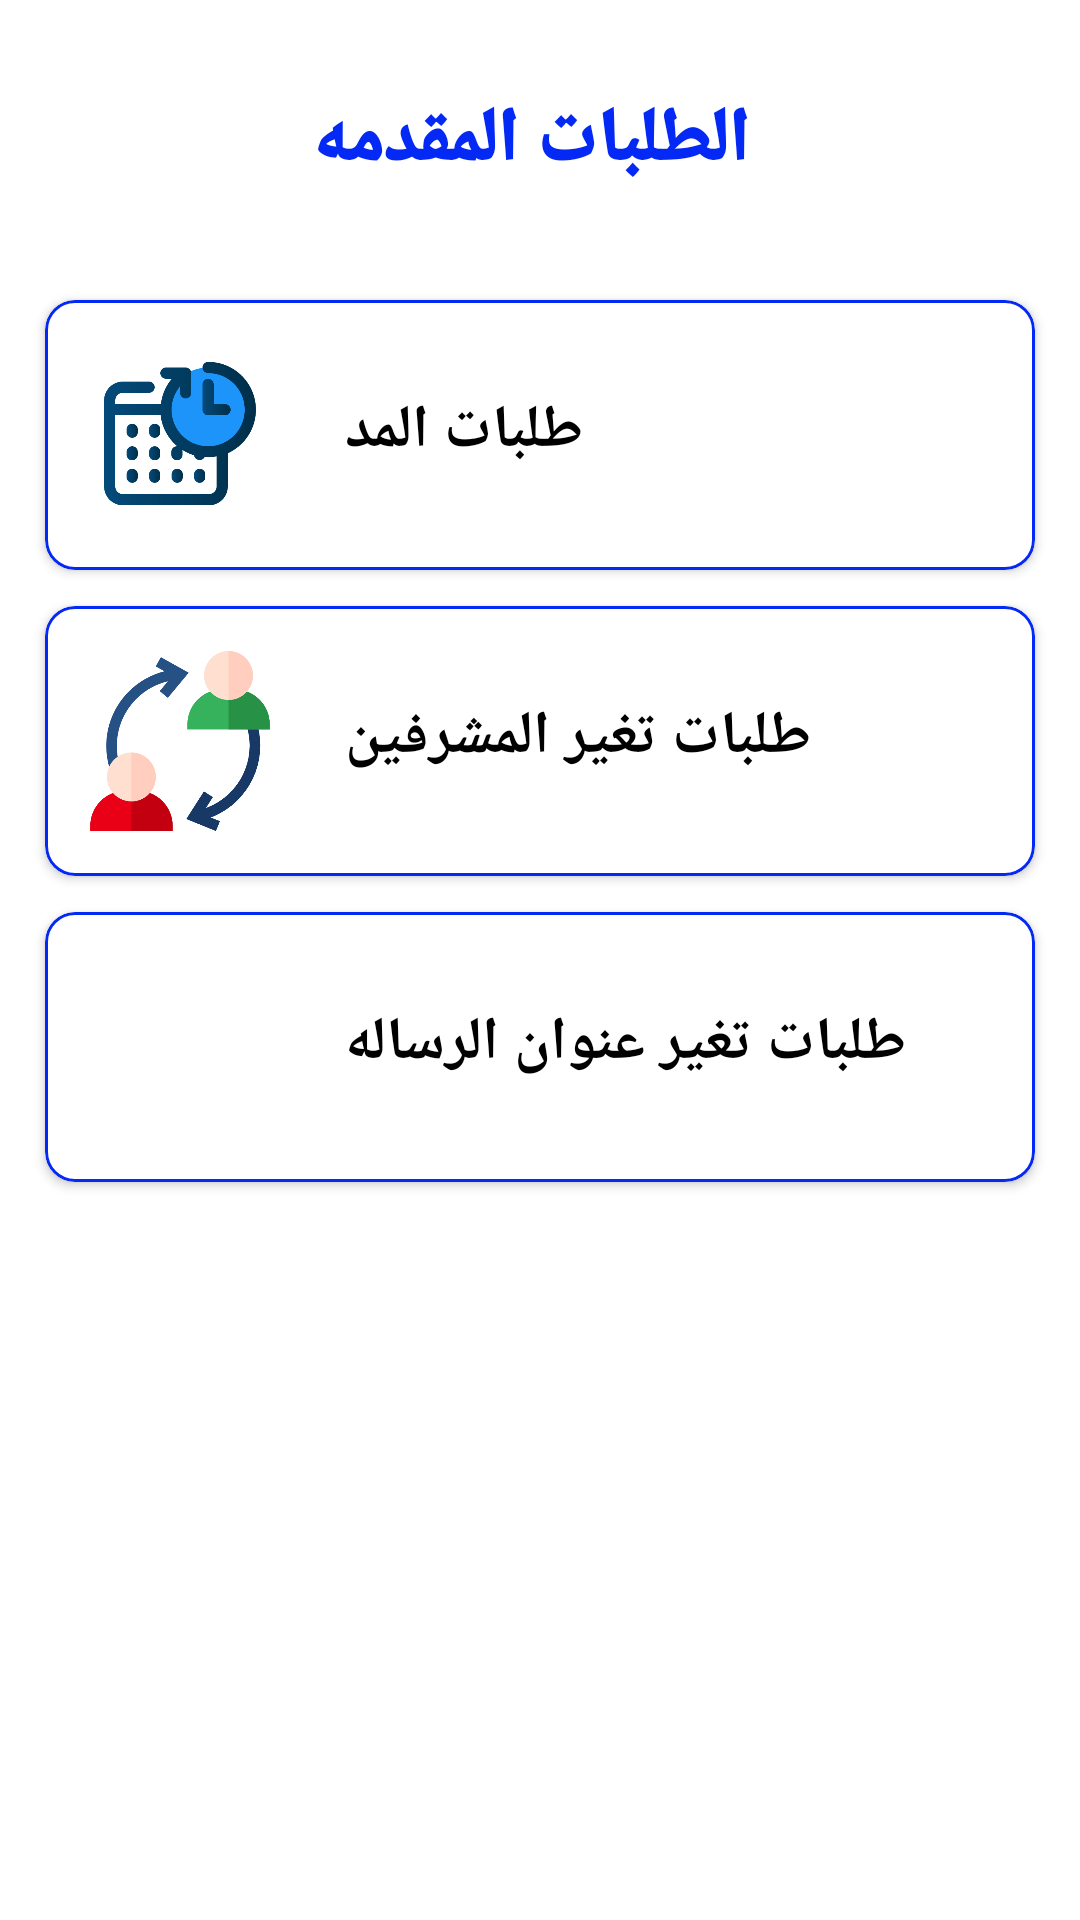

Icons on this 1080 × 1920 Android screen, each with its box as bbox=[x1, y1, x2, y2]:
exchange supervisor: bbox=[90, 651, 270, 831]
expanddate: bbox=[104, 362, 256, 505]
